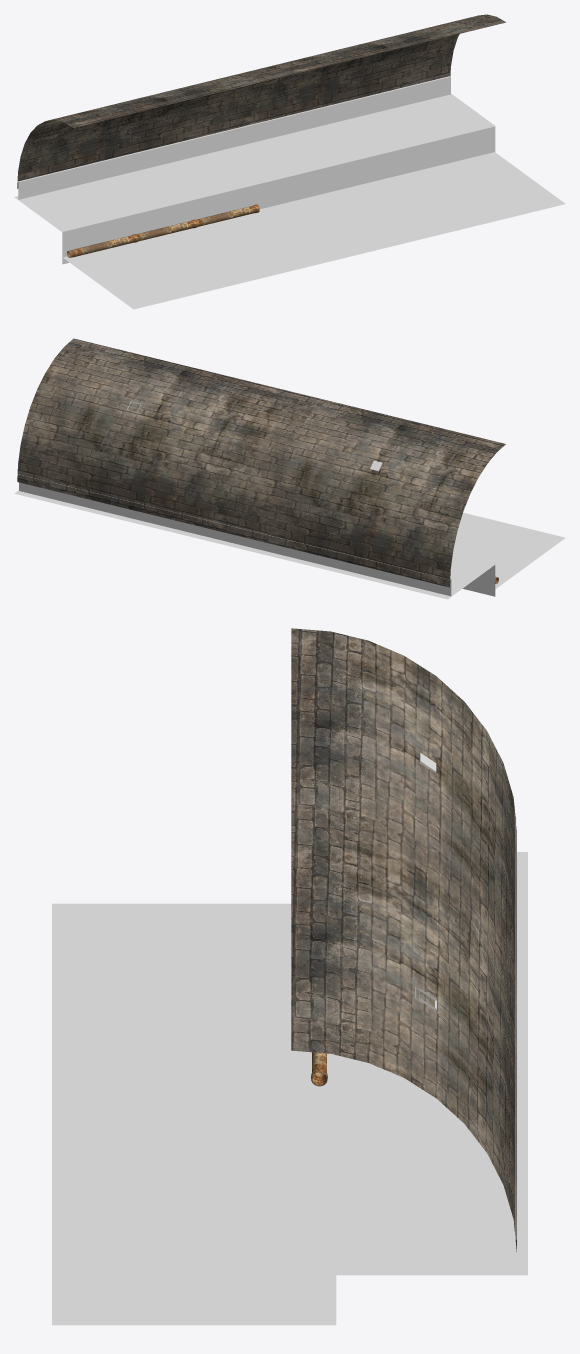
Rendered from sewerrrrr.fbx.
The picture shows the model from 3 angles, top to bottom: view 1: azimuth 30°, elevation 25°; view 2: azimuth 150°, elevation 25°; view 3: azimuth 270°, elevation 25°; orthographic projection. The views are drawn at different scales.
Visible parts, largest first — view 1: Sewer_merged-81_m, Cylinder, Sewer_merged-75_m, Cylinder.012, Cylinder.010, Cylinder.011; view 2: Cylinder, Sewer_merged-81_m, Sewer_merged-75_m; view 3: Sewer_merged-81_m, Cylinder, Sewer_merged-75_m.
Boxes of the visible parts, x1,y1,x2,y2 form: Sewer_merged-81_m: (14,93,565,309); Cylinder: (17,14,505,188); Sewer_merged-75_m: (17,76,495,264); Cylinder.012: (67,234,138,257); Cylinder.010: (196,204,259,226); Cylinder.011: (131,219,197,241); Cylinder: (17,338,505,587); Sewer_merged-81_m: (14,490,565,599); Sewer_merged-75_m: (19,474,495,596); Sewer_merged-81_m: (52,852,527,1325); Cylinder: (291,628,516,1251); Sewer_merged-75_m: (511,817,516,1239).
Size of the model in its own units: 2173 by 692 by 1033.
Materials: 9 (4 with a texture image).
